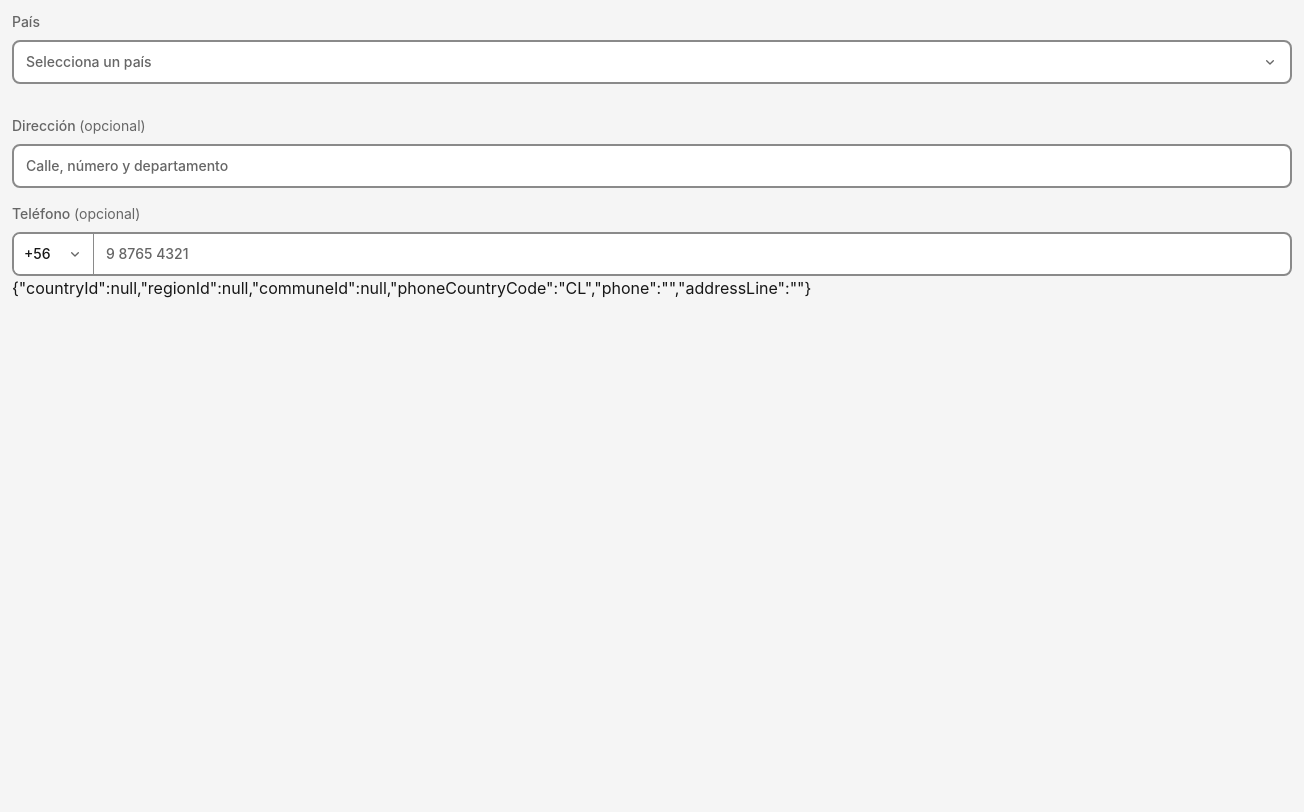
it: prepareUserContactPayload › shows at most ten searched countries and reports hidden results
Click the button named "País del teléfono".
click(54, 254)  # box left=14, top=234, right=94, bottom=274
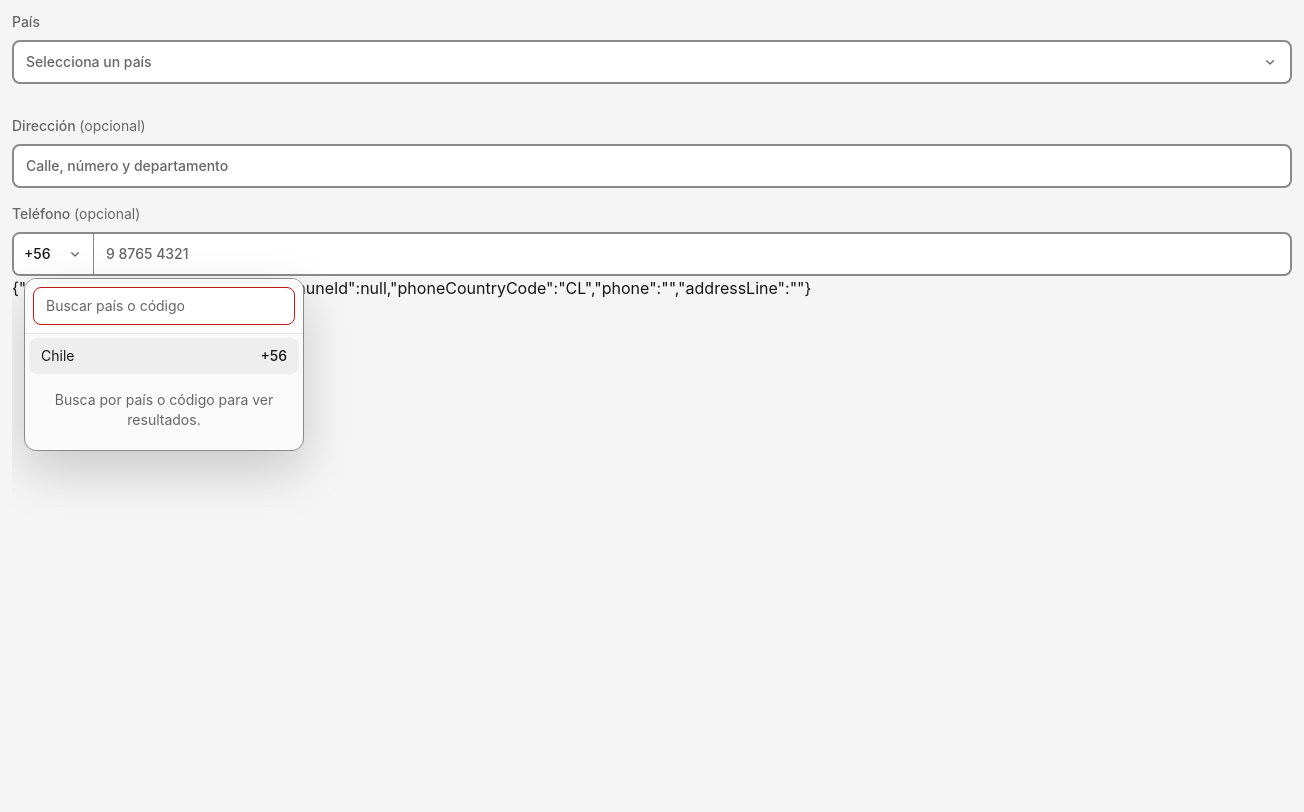
Now the number of options is 1, box left=29, top=338, right=299, bottom=374
Type "País de prueba" into the search field named "Buscar país del teléfono".
click(164, 306); type("País de prueba")  # box left=33, top=287, right=295, bottom=325
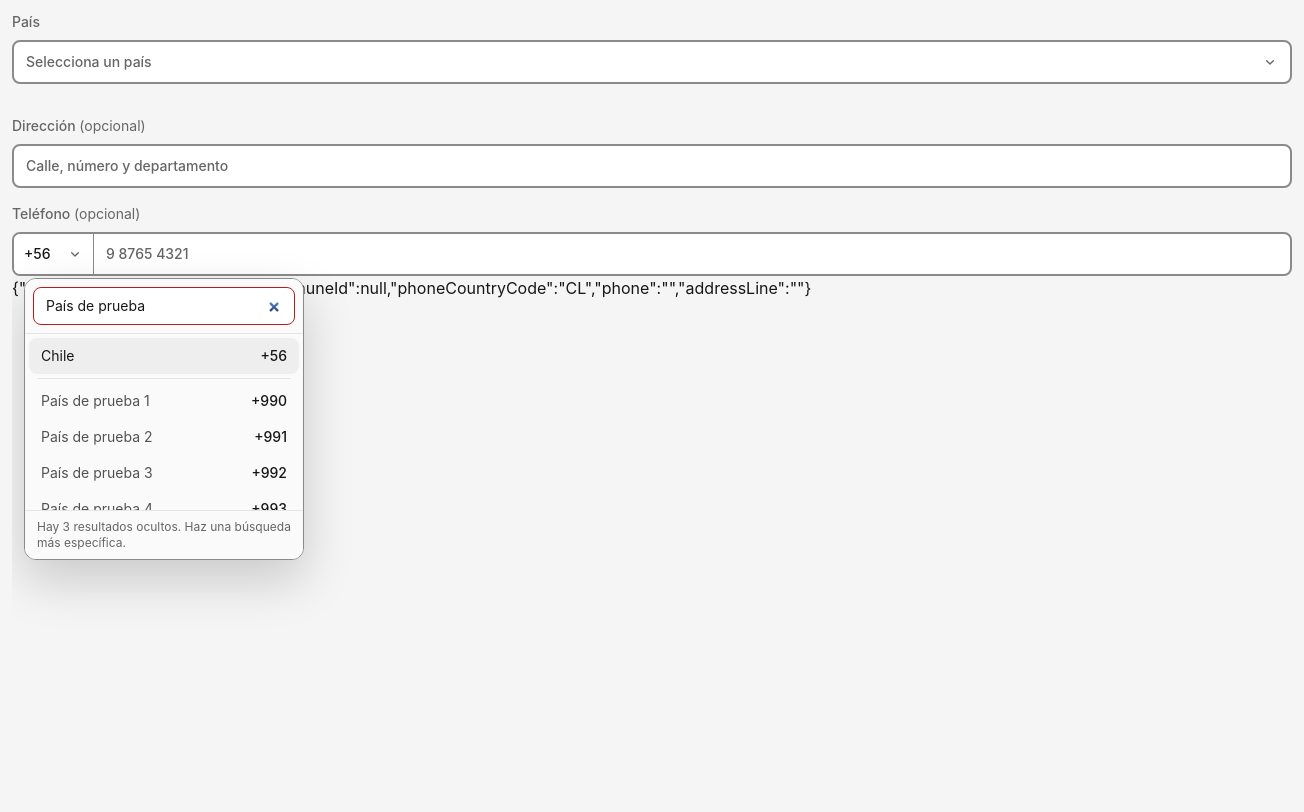
Now the text "Hay 3 resultados ocultos. Haz una búsqueda más específica." is shown, box left=25, top=510, right=303, bottom=559
